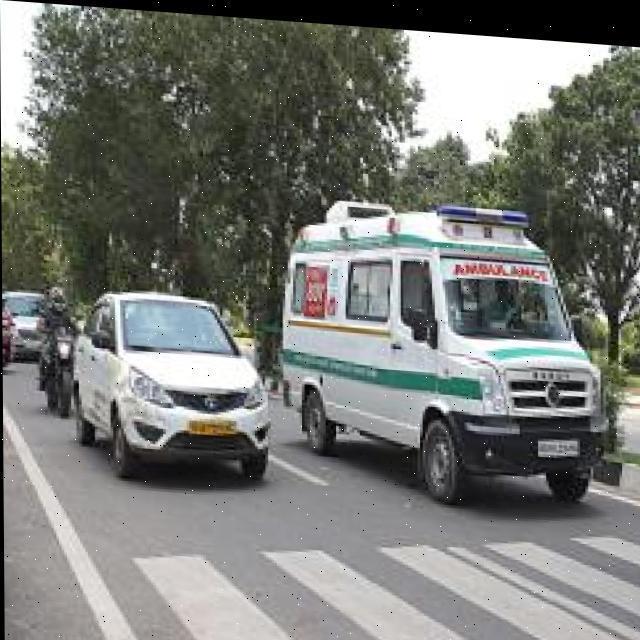Ambulance: (2, 335, 640, 640), (274, 183, 611, 508), (65, 279, 272, 485)
